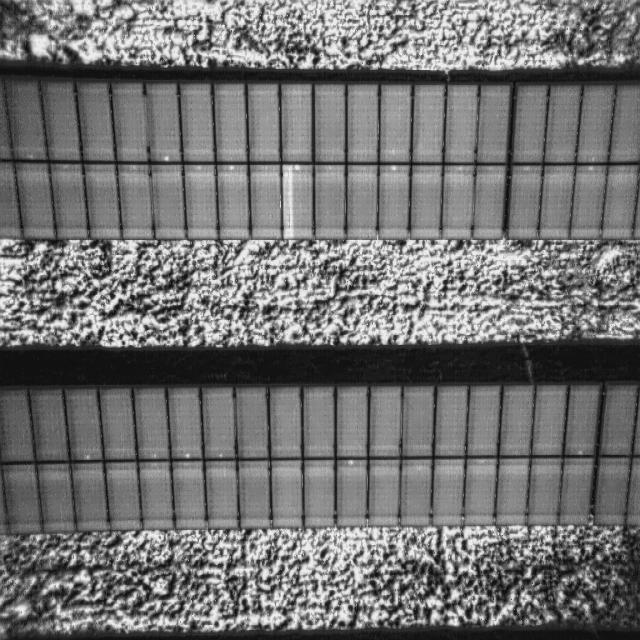diode: (279, 159, 307, 239)
